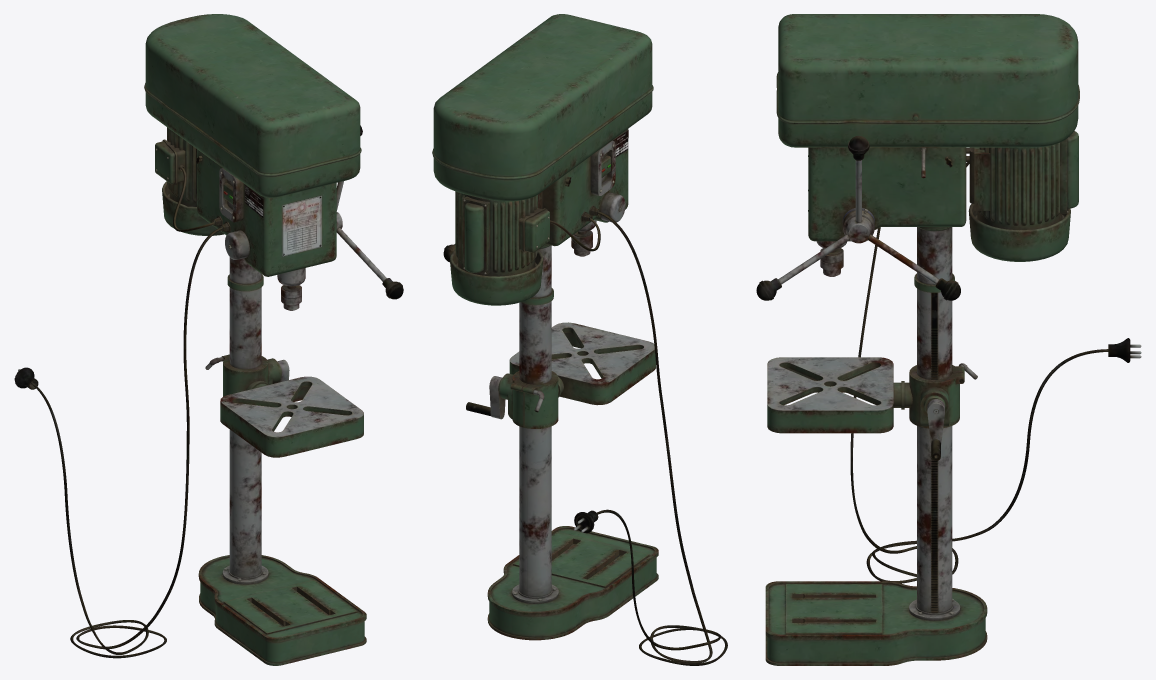
Rendered from old_drill_press.glb.
3 renders of one model, left to right at view 1: azimuth 30°, elevation 25°; view 2: azimuth 150°, elevation 25°; view 3: azimuth 270°, elevation 25°, orthographic. The views are drawn at different scales.
Parts seen in each view (by area): view 1: old_drill_press, old_drill_press_cable; view 2: old_drill_press, old_drill_press_cable; view 3: old_drill_press, old_drill_press_cable.
Part boxes in pixels (bbox=[...]): old_drill_press: bbox=[144, 14, 403, 665]; old_drill_press_cable: bbox=[14, 167, 222, 658]; old_drill_press: bbox=[432, 14, 658, 640]; old_drill_press_cable: bbox=[550, 211, 727, 665]; old_drill_press: bbox=[756, 14, 1079, 665]; old_drill_press_cable: bbox=[850, 162, 1141, 583].
Bounding box in the file's own units: 0.5272 × 1.05 × 0.6095.
1 material, 1 textured.
